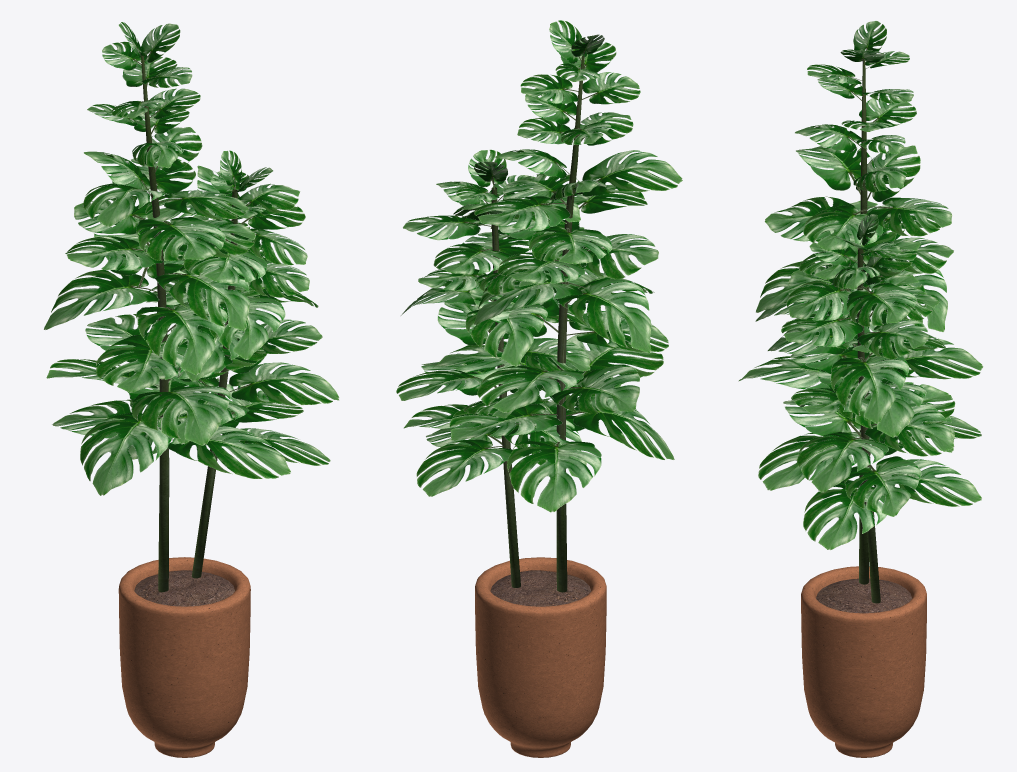
File: L2_B1_Tree.fbx
The picture shows the model from 3 angles, left to right: view 1: azimuth 30°, elevation 25°; view 2: azimuth 150°, elevation 25°; view 3: azimuth 270°, elevation 25°; orthographic projection. The views are drawn at different scales.
Parts seen in each view (by area): view 1: L2_B1_Tree1; view 2: L2_B1_Tree1; view 3: L2_B1_Tree1.
Boxes of the visible parts, x1=… form: L2_B1_Tree1: x1=44, y1=22, x2=339, y2=757; L2_B1_Tree1: x1=396, y1=20, x2=682, y2=757; L2_B1_Tree1: x1=738, y1=21, x2=983, y2=757.
Bounding box in the file's own units: 0.9681 × 2.35 × 0.8582.
Materials: 3 (3 with a texture image).
